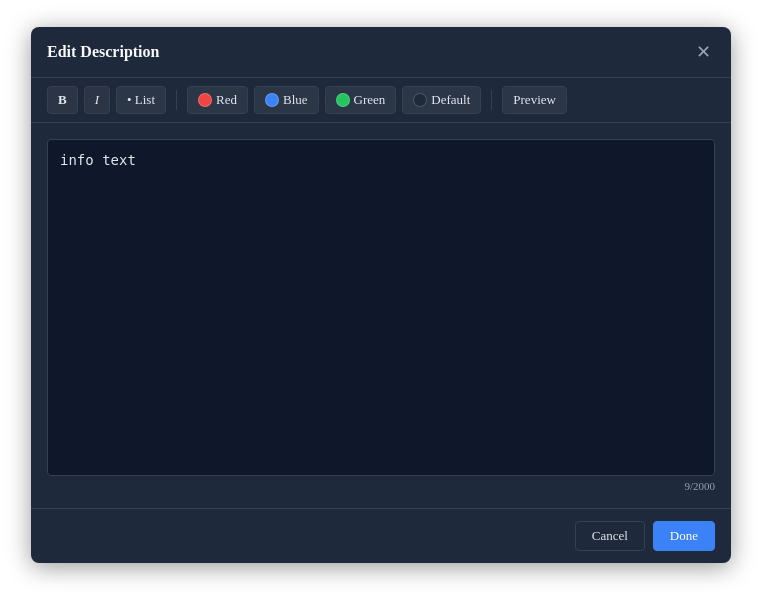
Scenario: DescriptionModal › toolbar color buttons › wraps selected text with blue color markers
What coordinates should you click on to do the following:
click the button with test id "toolbar-color-blue"
I would click on:
 (286, 100)
Its box is [254,86,319,114].
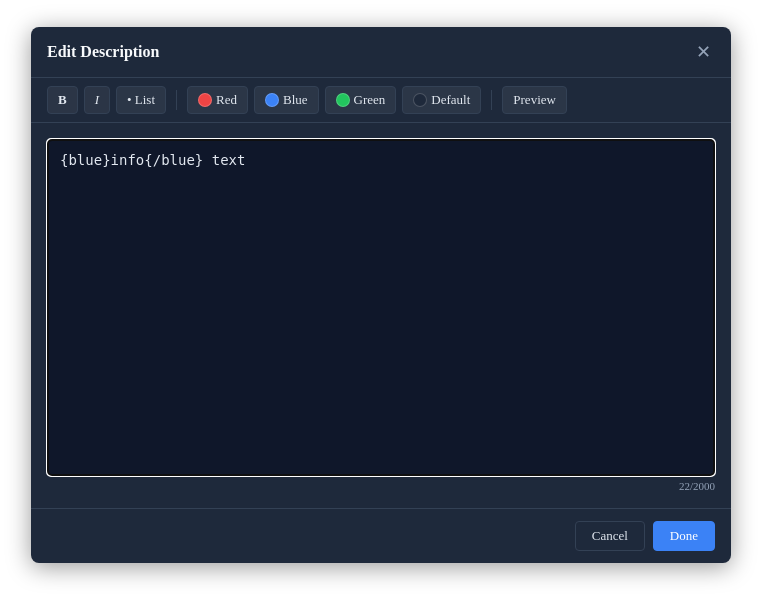
Check: the text box with test id "description-modal-textarea" holds "{blue}info{/blue} text", box [47,139,715,476]
